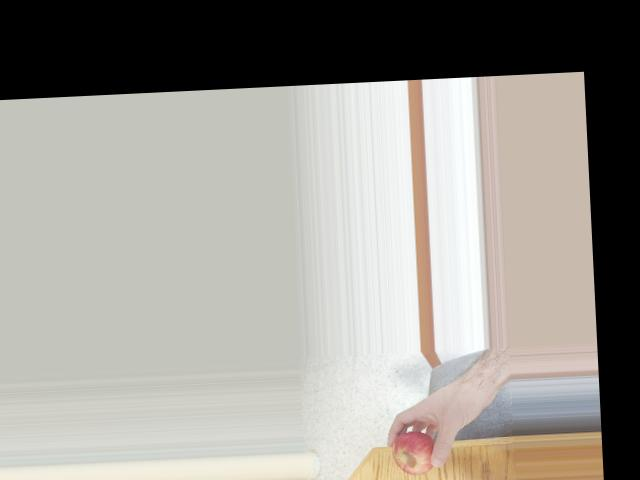apple: (390, 426, 442, 478)
